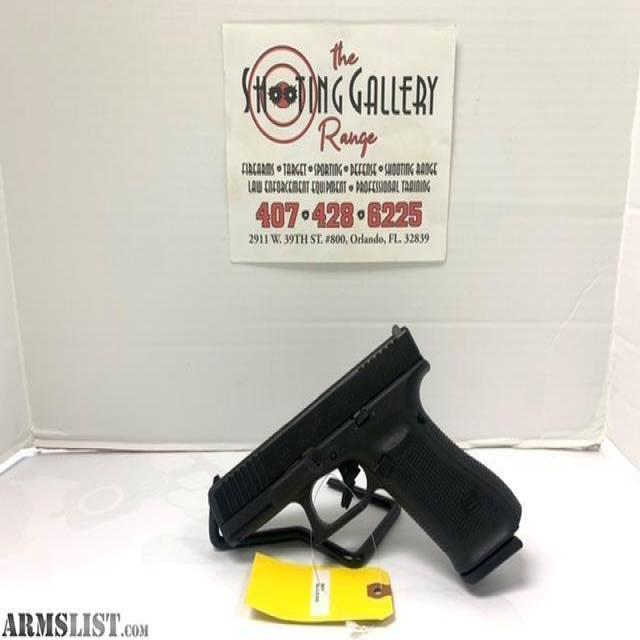HandGun: (207, 328, 524, 591)
